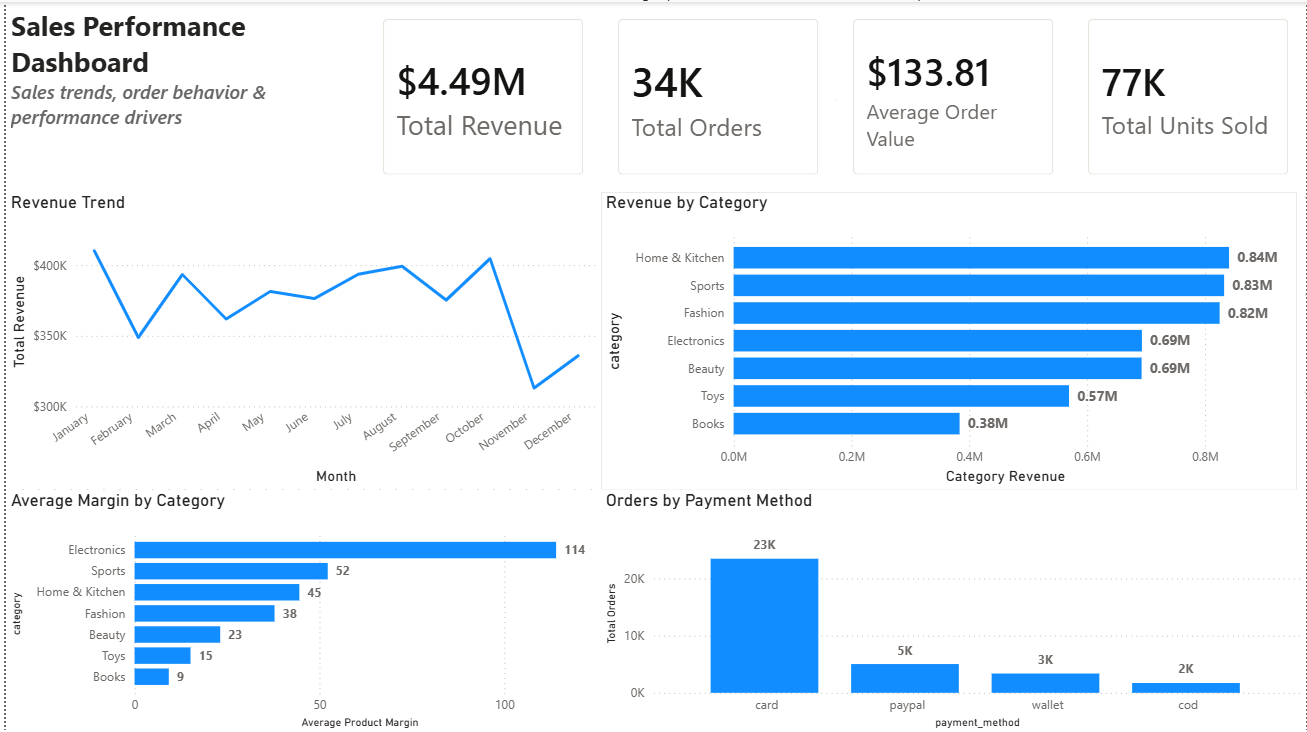

This screenshot's page, from the dashboard's own definition file:
{"tool":"powerbi","page":{"name":"Sales & Performance","canvas":[1280,720],"ordinal":2},"visuals":[{"type":"cardVisual","fields":{"Data":["retail_sales_analytics orders.Total Revenue"]},"box":[354.5,0,231.4,187.1],"z":0},{"type":"cardVisual","fields":{"Data":["retail_sales_analytics orders.Total Orders"]},"box":[585.8,0,231.4,187.1],"z":1000},{"type":"cardVisual","fields":{"Data":["retail_sales_analytics orders.Average Order Value"]},"box":[817.2,0,231.4,187.1],"z":2000},{"type":"cardVisual","fields":{"Data":["retail_sales_analytics customer.Total Units Sold"]},"box":[1048.6,0,231.4,187.1],"z":3000},{"type":"lineChart","title":"Revenue Trend","fields":{"Y":["retail_sales_analytics orders.Total Revenue"],"Category":["retail_sales_analytics orders.order_time.Variation.Date Hierarchy.Month"]},"box":[0,187.1,585.8,292.9],"z":4000},{"type":"clusteredBarChart","title":"Revenue by Category","fields":{"Y":["retail_sales_analytics customer.Category Revenue"],"Category":["retail_sales_analytics product.category"]},"box":[585.8,187.1,685.5,292.9],"z":5000},{"type":"clusteredBarChart","title":"Average Margin by Category","fields":{"Category":["retail_sales_analytics product.category"],"Y":["retail_sales_analytics product.Average Product Margin"]},"box":[0,480,585.8,240],"z":6000},{"type":"clusteredColumnChart","title":"Orders by Payment Method","fields":{"Category":["retail_sales_analytics orders.payment_method"],"Y":["retail_sales_analytics orders.Total Orders"]},"box":[585.8,480,694.2,240],"z":7000},{"type":"textbox","box":[0,0,353.4,186.4],"z":8000}]}

Visuals, with their boxes in screenshot pixels (x1, y1, x2, y2), scaled from the page's 1280x720 canvas onto the 1307x732 screenshot:
cardVisual - retail_sales_analytics orders.Total Revenue: (left=362, top=0, right=598, bottom=190)
cardVisual - retail_sales_analytics orders.Total Orders: (left=598, top=0, right=834, bottom=190)
cardVisual - retail_sales_analytics orders.Average Order Value: (left=834, top=0, right=1071, bottom=190)
cardVisual - retail_sales_analytics customer.Total Units Sold: (left=1071, top=0, right=1306, bottom=190)
"Revenue Trend" lineChart: (left=0, top=190, right=598, bottom=488)
"Revenue by Category" clusteredBarChart: (left=598, top=190, right=1298, bottom=488)
"Average Margin by Category" clusteredBarChart: (left=0, top=488, right=598, bottom=731)
"Orders by Payment Method" clusteredColumnChart: (left=598, top=488, right=1306, bottom=731)
textbox: (left=0, top=0, right=361, bottom=190)
